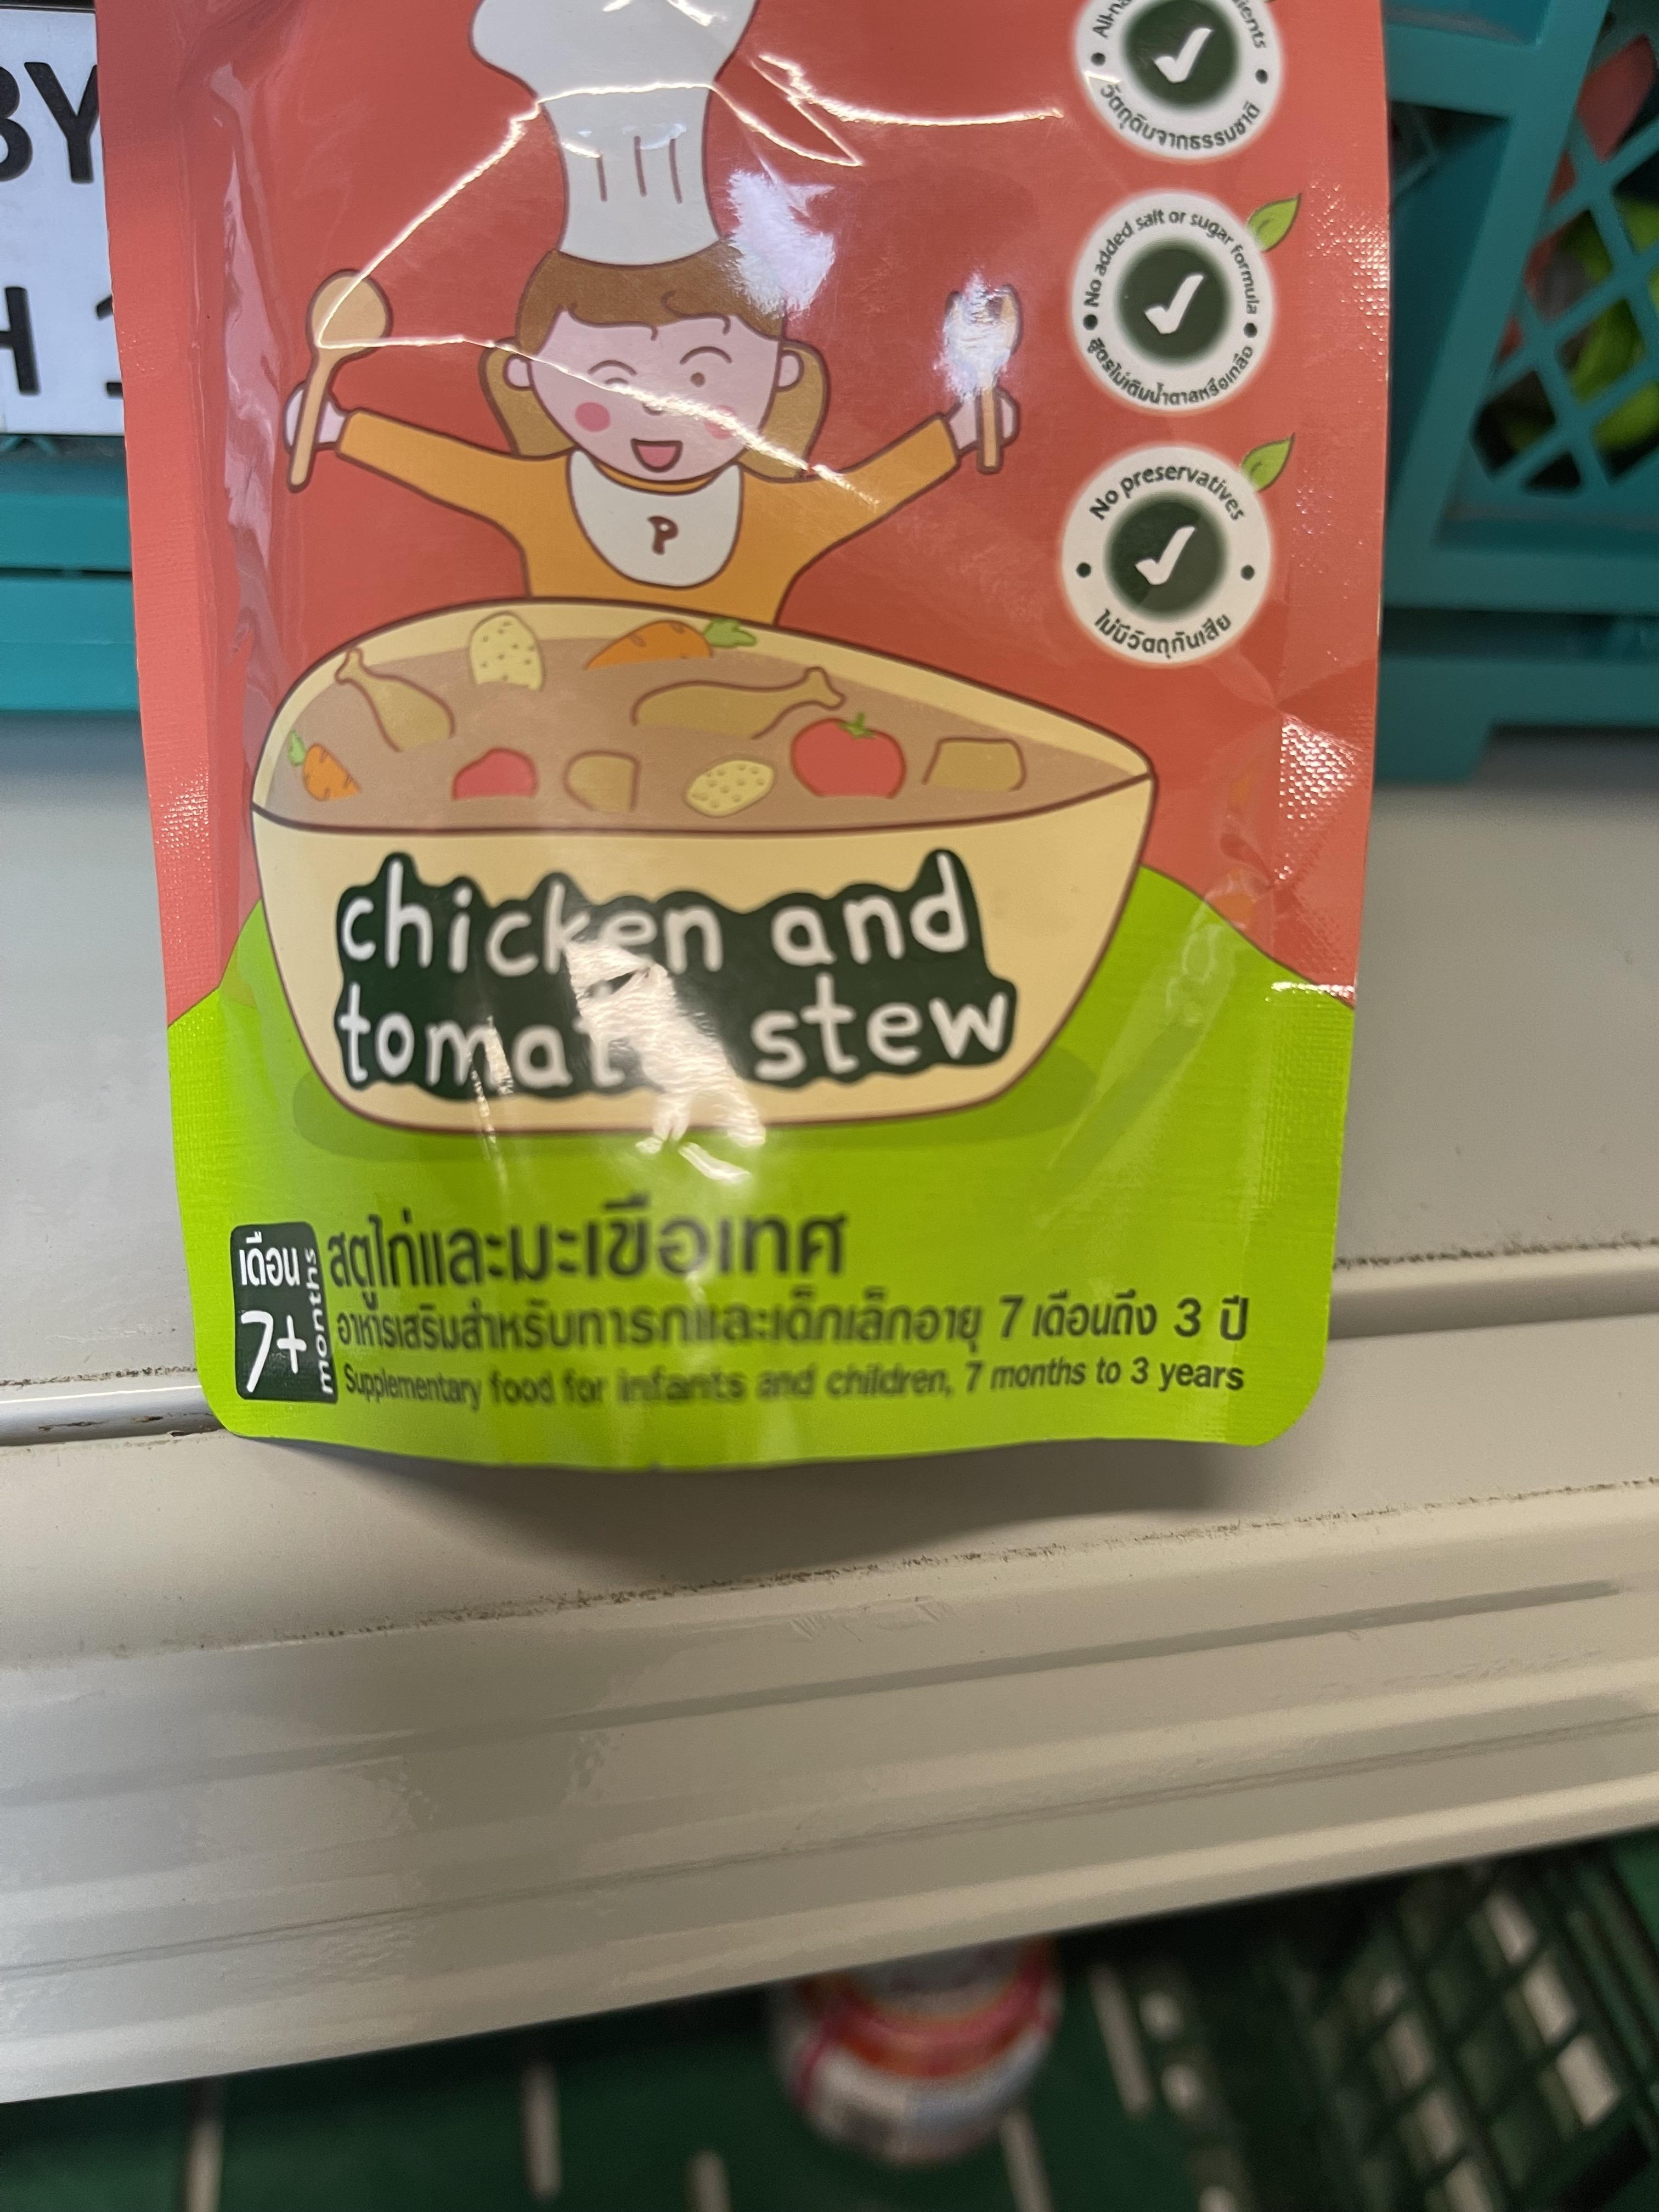object_name: (167, 9, 1304, 1437)
